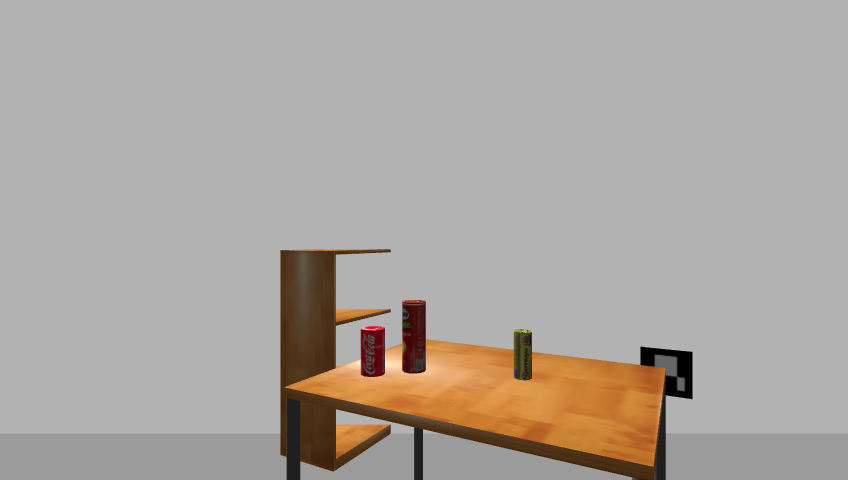aruco marker: (635, 345, 699, 402)
biscuits pack: (512, 329, 534, 381)
bookshelf: (275, 245, 396, 480)
coke can: (359, 325, 387, 378)
dinner table: (277, 339, 673, 479)
pringles can: (400, 300, 428, 376)
